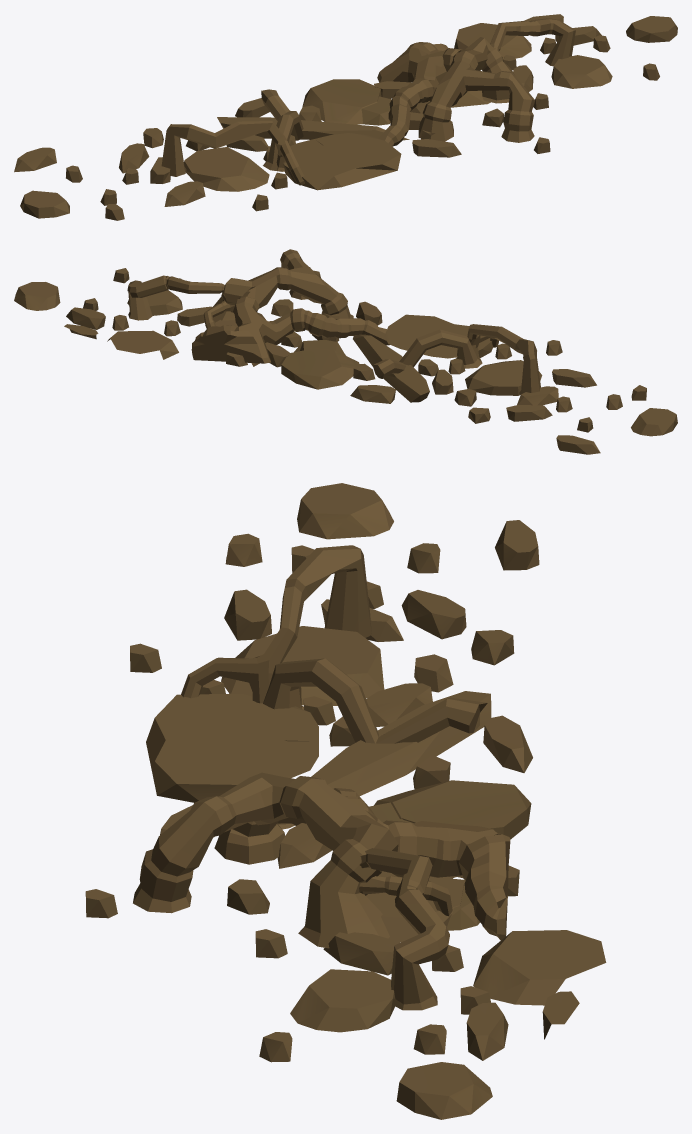
The model's file is EA_Swamp_Dirt_Root_Half_04d.glb.
3 views of the same model, one above another, from view 1: azimuth 30°, elevation 25°; view 2: azimuth 150°, elevation 25°; view 3: azimuth 270°, elevation 25° (orthographic). The views are drawn at different scales.
Parts seen in each view (by area): view 1: EA_Swamp_Dirt_Root_Half_04d; view 2: EA_Swamp_Dirt_Root_Half_04d; view 3: EA_Swamp_Dirt_Root_Half_04d.
Boxes of the visible parts, left/top/right/bottom form: EA_Swamp_Dirt_Root_Half_04d: left=14, top=14, right=677, bottom=220; EA_Swamp_Dirt_Root_Half_04d: left=14, top=249, right=677, bottom=454; EA_Swamp_Dirt_Root_Half_04d: left=85, top=483, right=606, bottom=1119.
Size of the model in its own units: 9.26 by 0.9212 by 3.29.
Materials: 1 (1 with a texture image).
